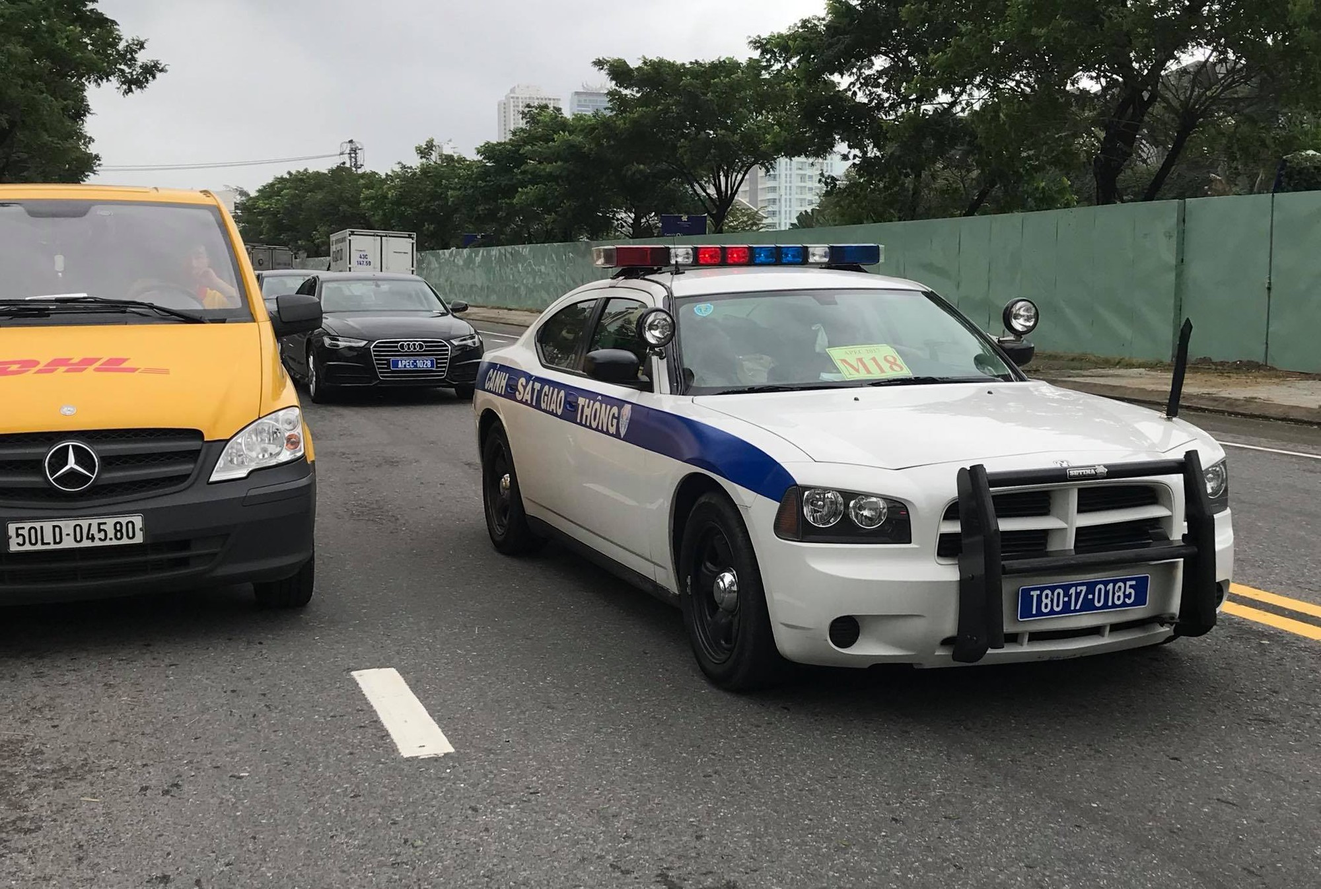oto: (472, 251, 1234, 702), (0, 178, 319, 644), (300, 272, 481, 404)
